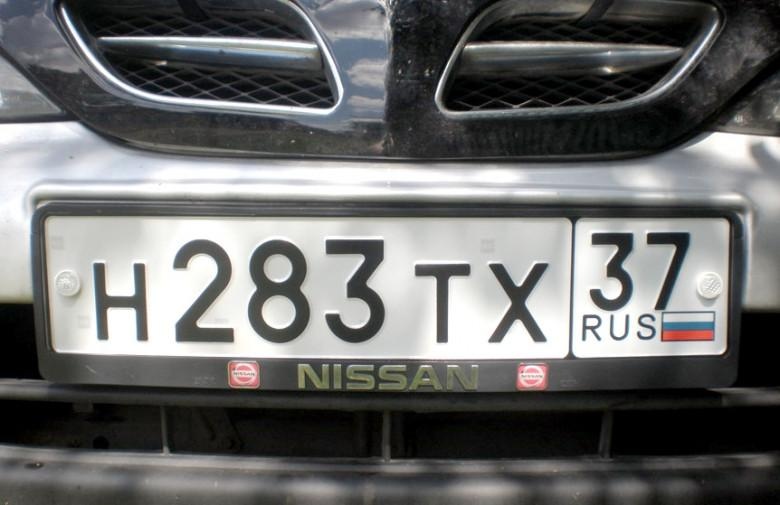license-plateSW: (34, 215, 742, 366)
